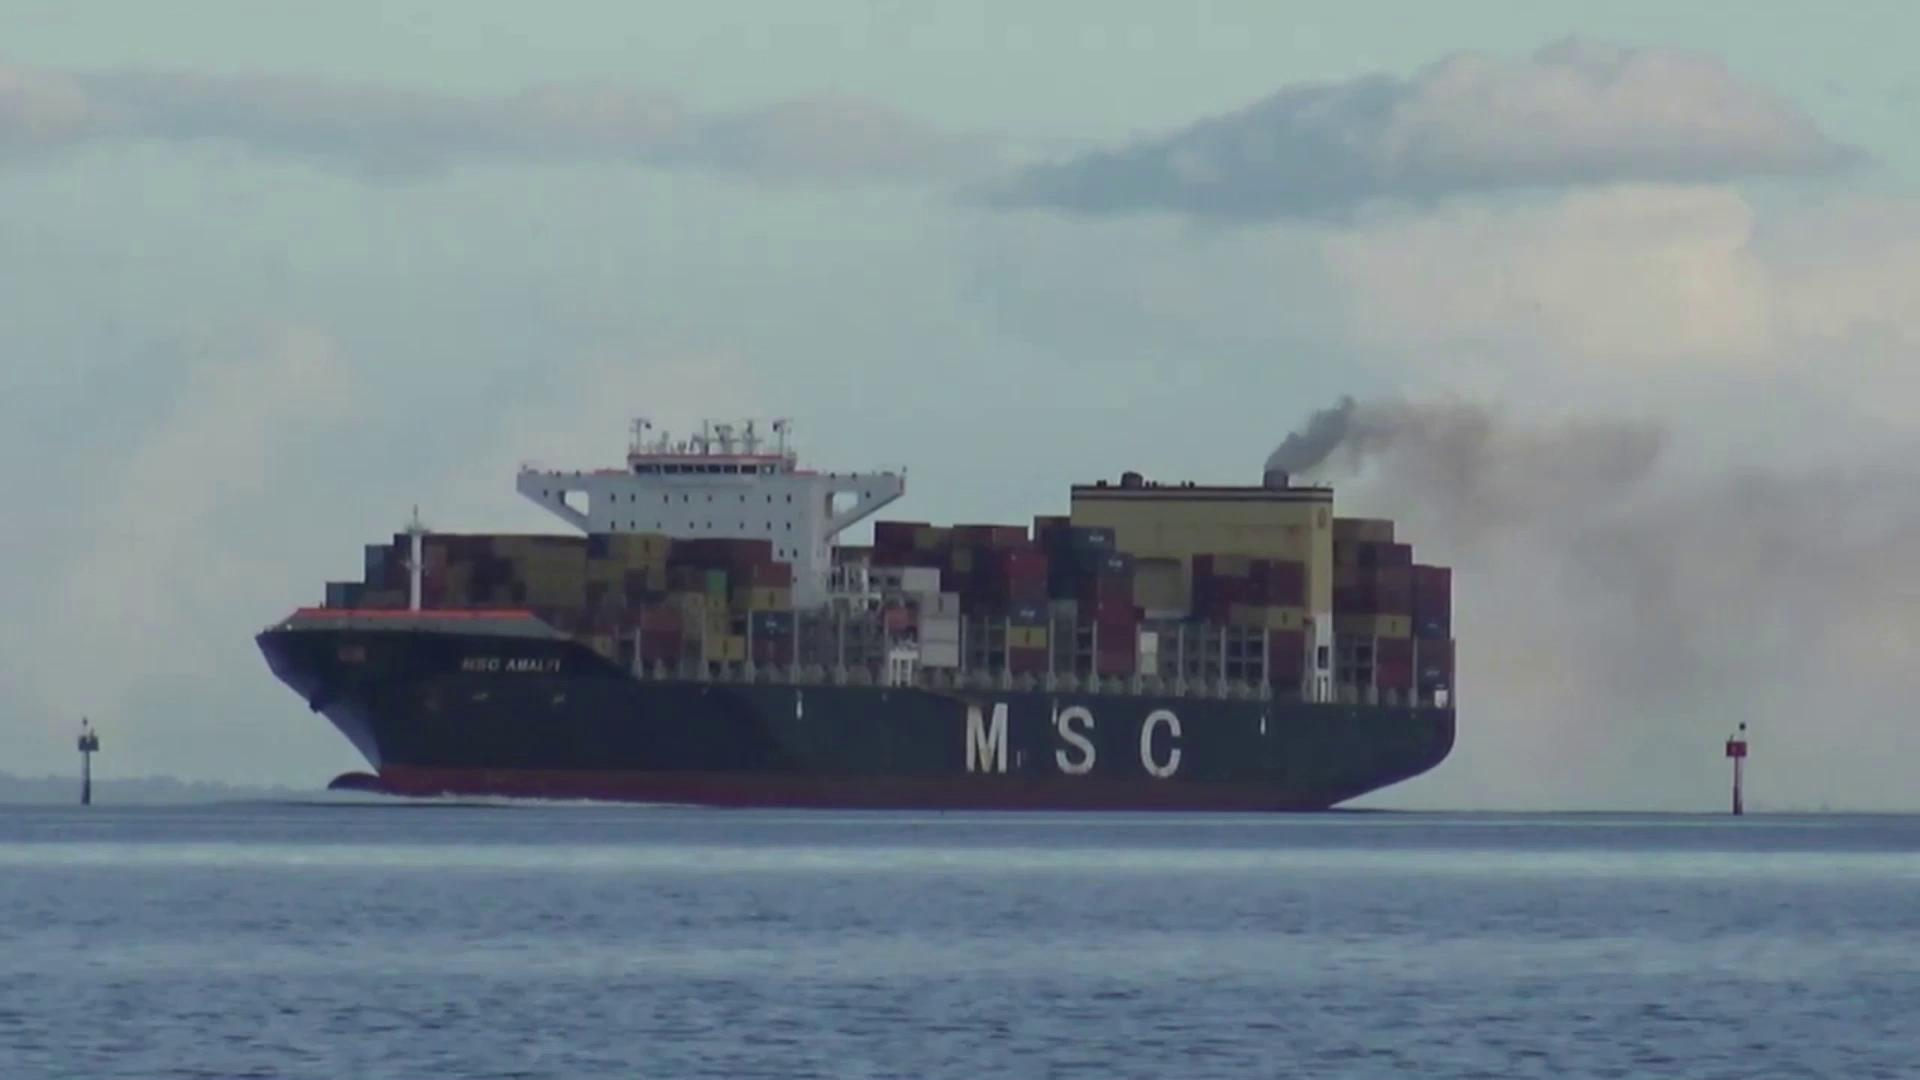OCR: (960, 688, 1185, 787)
